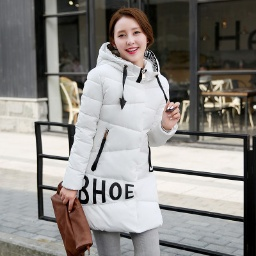face: (99, 6, 161, 71)
